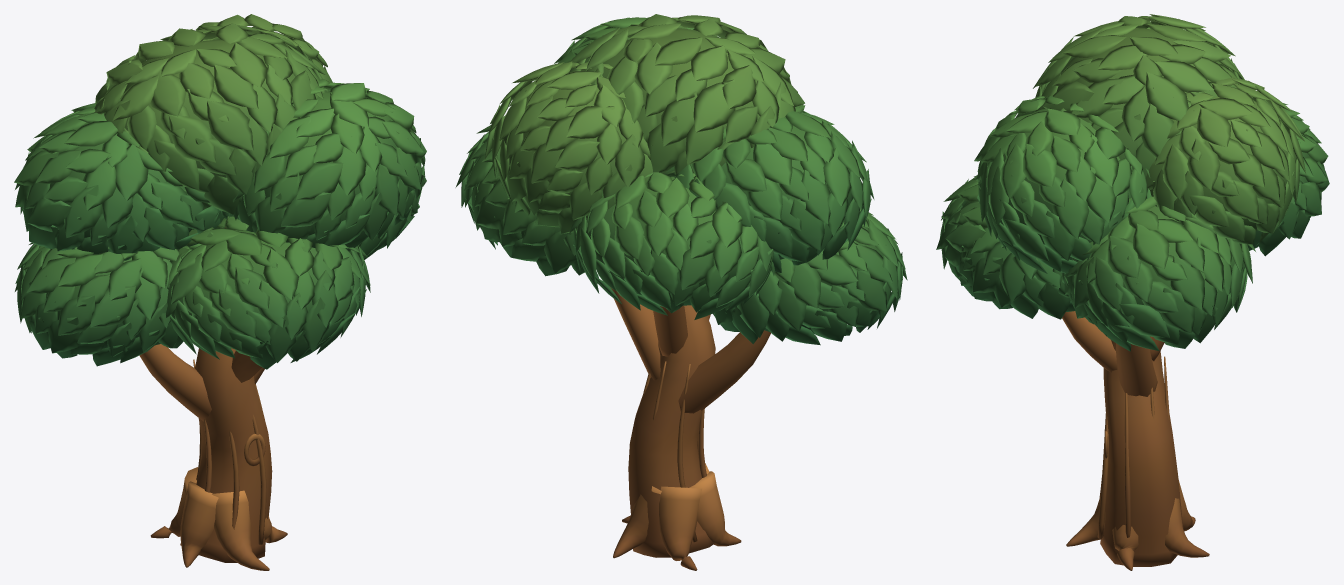
The model's file is canopy_oak.glb.
The picture shows the model from 3 angles, left to right: view 1: azimuth 30°, elevation 25°; view 2: azimuth 150°, elevation 25°; view 3: azimuth 270°, elevation 25°; orthographic projection.
Visible parts, largest first — view 1: Foliage, Wood; view 2: Foliage, Wood; view 3: Foliage, Wood.
Part boxes in pixels (bbox=[...]): Foliage: bbox=[14, 14, 426, 369]; Wood: bbox=[139, 227, 287, 570]; Foliage: bbox=[455, 14, 907, 345]; Wood: bbox=[610, 287, 770, 570]; Foliage: bbox=[936, 14, 1329, 351]; Wood: bbox=[1062, 311, 1209, 570].
Bounding box in the file's own units: 4.76 × 5.75 × 3.97.
